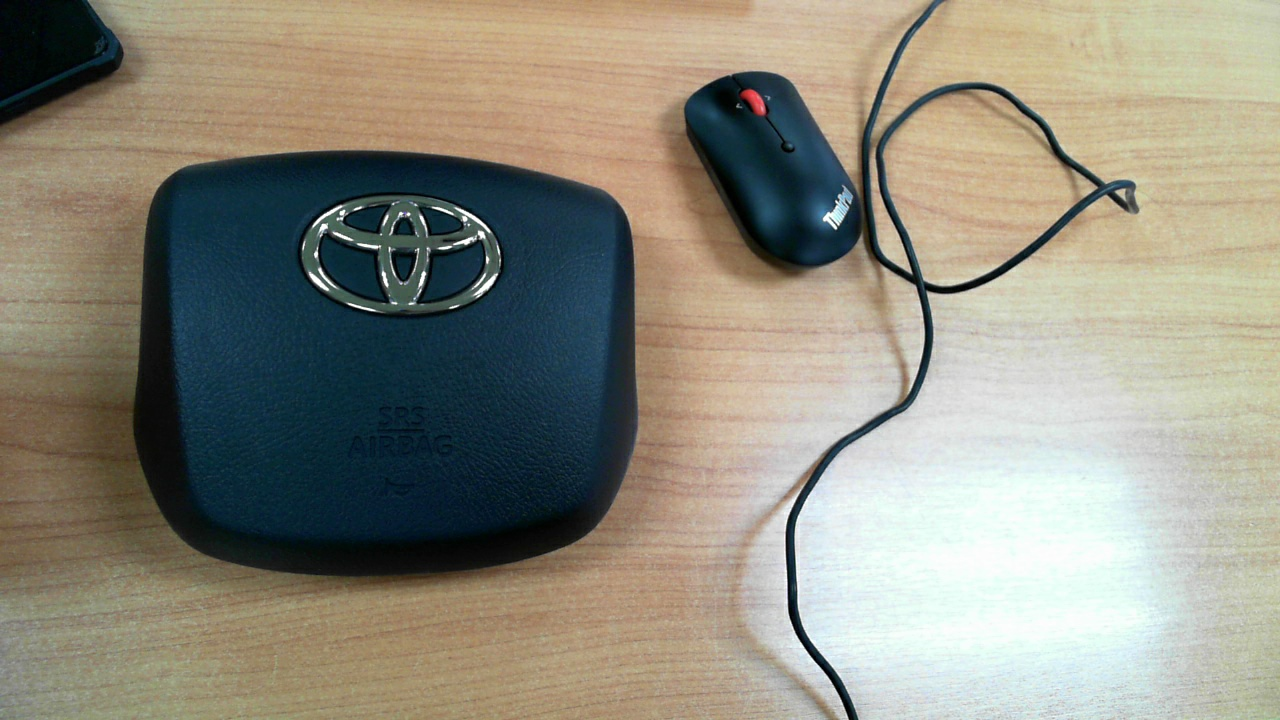Airbag: (95, 126, 652, 593)
